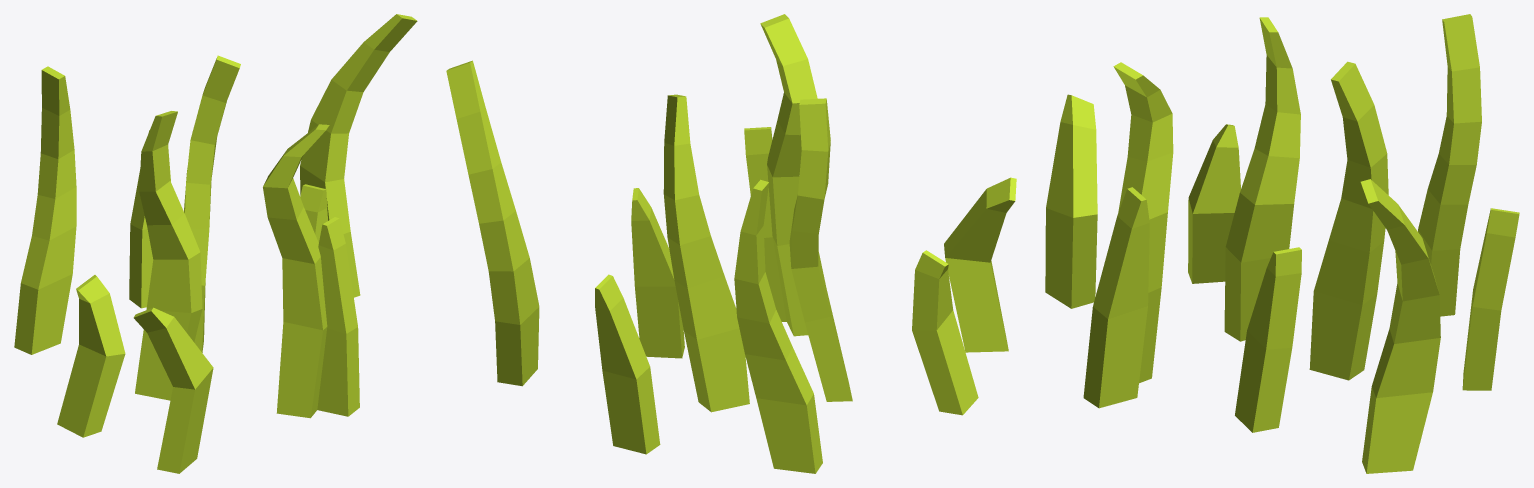
The model's file is Desert_Grass1.fbx.
3 views of the same model, side by side, from view 1: azimuth 30°, elevation 25°; view 2: azimuth 150°, elevation 25°; view 3: azimuth 270°, elevation 25° (orthographic). The views are drawn at different scales.
Parts seen in each view (by area): view 1: Cube.014; view 2: Cube.014; view 3: Cube.014.
Boxes of the visible parts, left/top/right/bottom form: Cube.014: left=14, top=14, right=417, bottom=473; Cube.014: left=446, top=14, right=1016, bottom=473; Cube.014: left=1045, top=14, right=1519, bottom=473.
Bounding box in the file's own units: 135 × 86.69 × 114.
